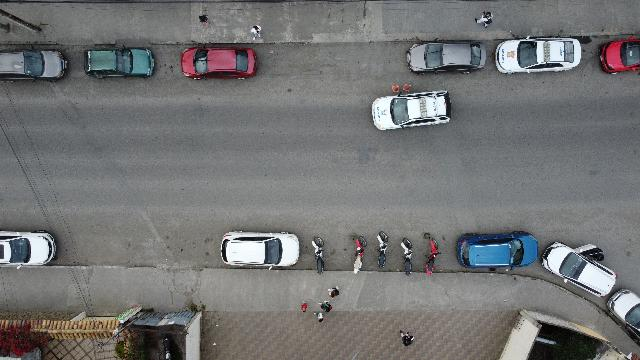Vehiculo: (542, 242, 618, 298), (372, 90, 452, 130), (458, 231, 538, 271), (495, 38, 581, 74), (220, 231, 300, 267), (406, 41, 486, 75), (181, 46, 257, 80), (0, 49, 68, 82), (84, 46, 154, 78), (0, 231, 56, 267), (607, 288, 639, 340), (600, 38, 640, 74)
